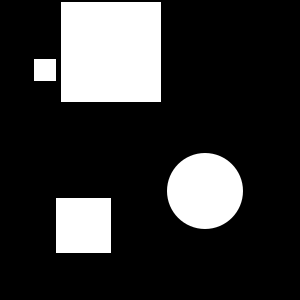circle: (61, 2, 161, 102), (56, 198, 111, 253), (34, 59, 56, 81)
rectangle: (167, 153, 243, 229), (130, 16, 154, 40)
